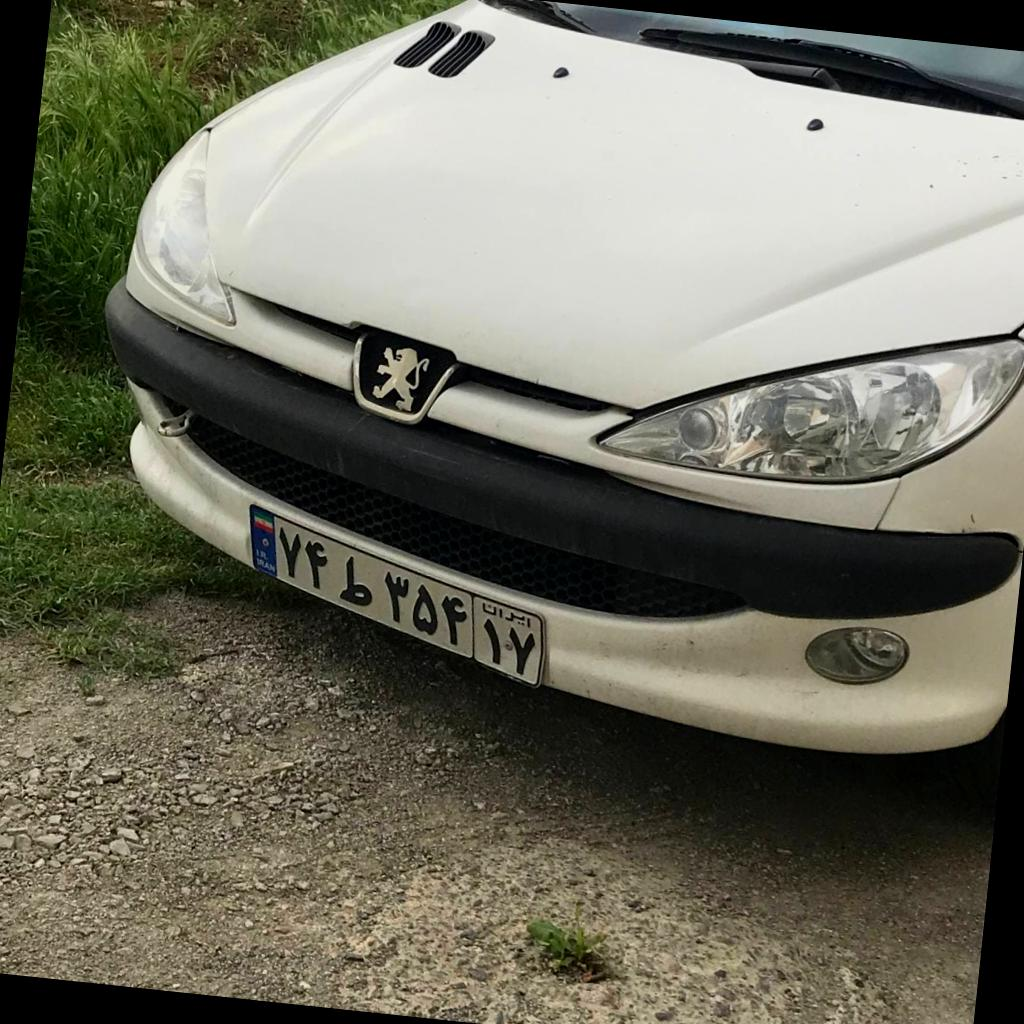Plates: (251, 507, 540, 685)
